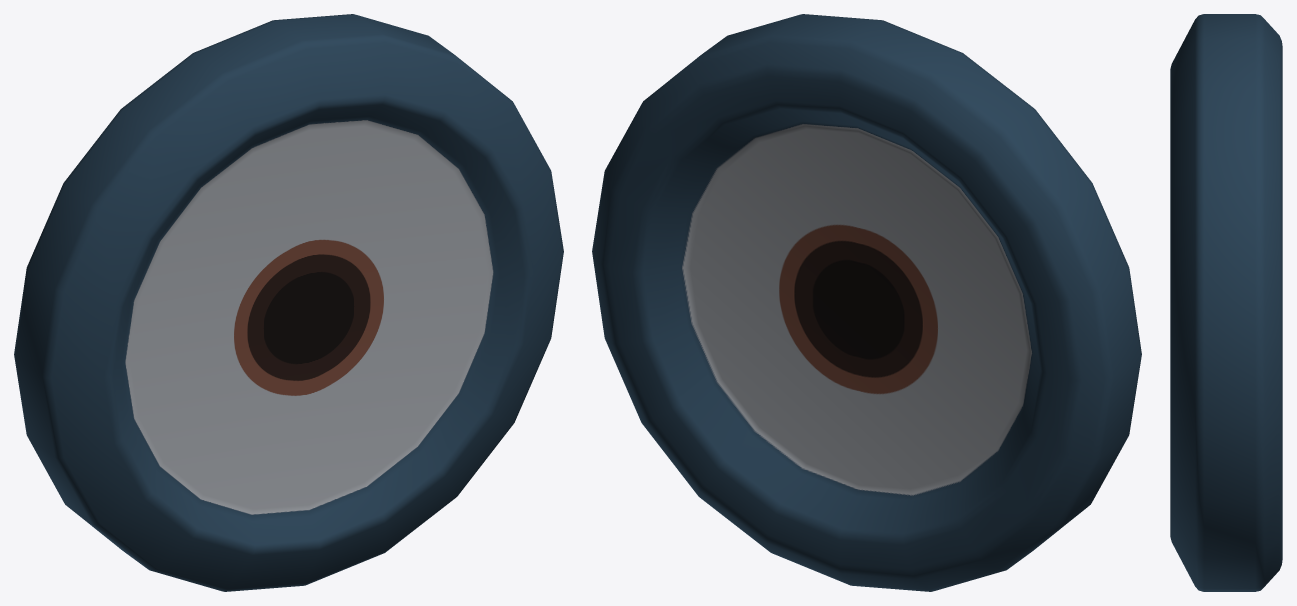
File: Weapon_yuanju01_01_huai.FBX
3 views of the same model, side by side, from view 1: azimuth 30°, elevation 25°; view 2: azimuth 150°, elevation 25°; view 3: azimuth 270°, elevation 25° (orthographic). The views are drawn at different scales.
Visible parts, largest first — view 1: Weapon_yuanju01_01; view 2: Weapon_yuanju01_01; view 3: Weapon_yuanju01_01.
Boxes of the visible parts, x1,y1,x2,y2 form: Weapon_yuanju01_01: (14,14,563,591); Weapon_yuanju01_01: (592,14,1141,591); Weapon_yuanju01_01: (1170,14,1282,591).
Size of the model in its own units: 1.29 by 1.29 by 0.248.
Materials: 1 (1 with a texture image).
